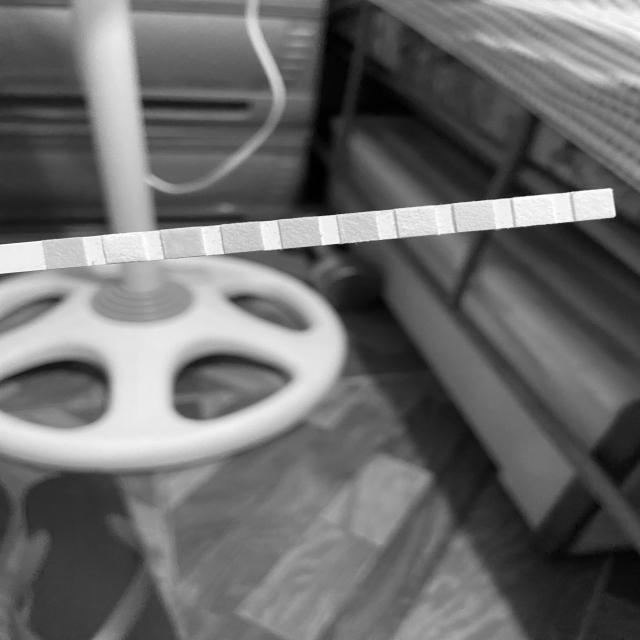Bilirubin: (106, 235, 140, 262)
Blood: (282, 220, 319, 246)
Glucose: (46, 240, 83, 266)
Ketone: (164, 230, 202, 256)
Leukocytes: (574, 192, 613, 218)
Nitrite: (515, 198, 553, 224)
Protein: (398, 209, 436, 235)
SpGravity: (225, 225, 261, 250)
Urobilinogen: (457, 203, 492, 230)
background: (0, 0, 640, 640)
pH: (340, 215, 374, 241)
strip: (0, 189, 617, 275)
